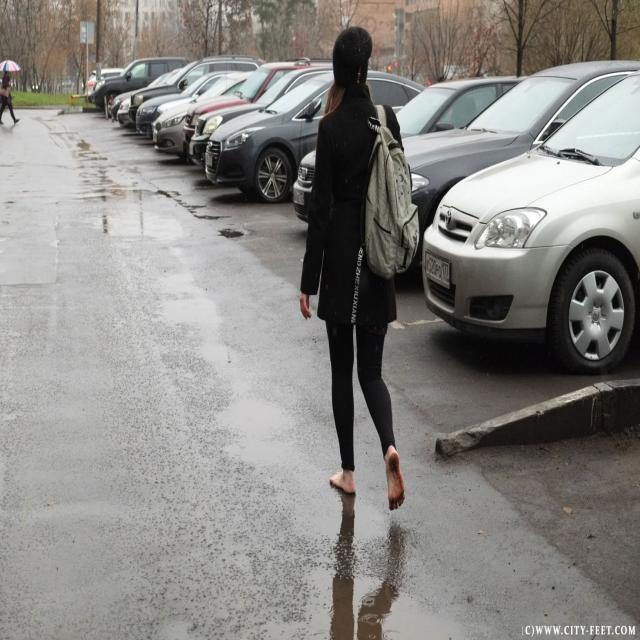Barefoots: (386, 449, 405, 510), (330, 471, 356, 493)
